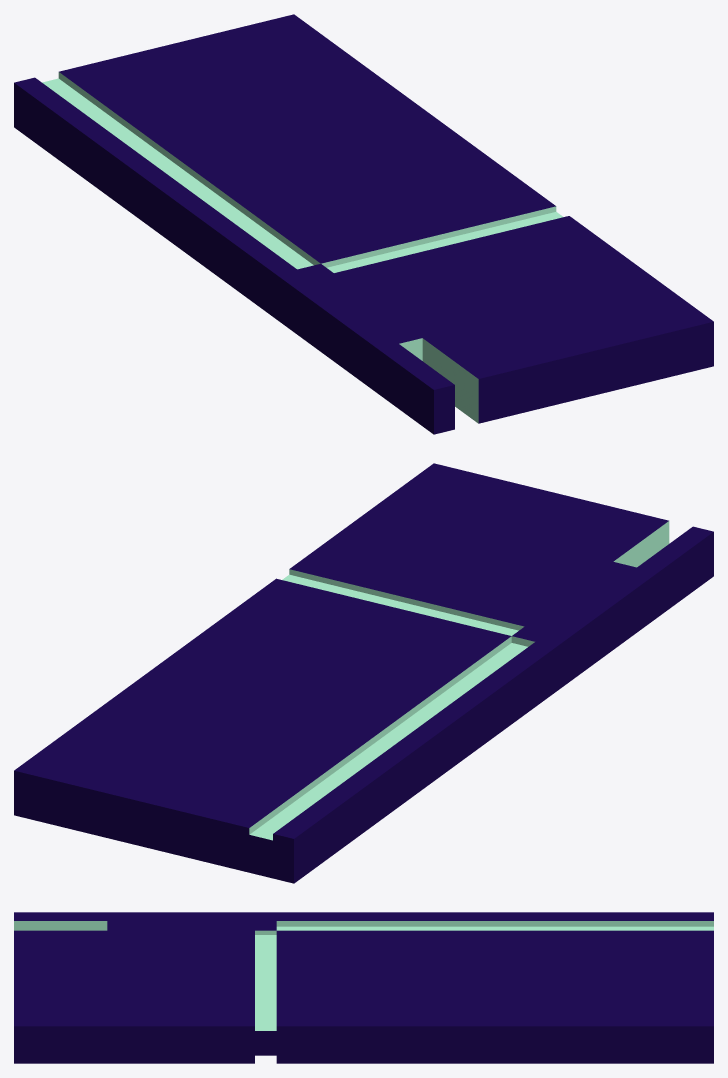
Rendered from Platform09.fbx.
3 renders of one model, top to bottom at view 1: azimuth 30°, elevation 25°; view 2: azimuth 150°, elevation 25°; view 3: azimuth 270°, elevation 25°, orthographic. The views are drawn at different scales.
Parts seen in each view (by area): view 1: Box071; view 2: Box071; view 3: Box071.
Part boxes in pixels (bbox=[...]): Box071: bbox=[14, 14, 713, 434]; Box071: bbox=[14, 463, 713, 883]; Box071: bbox=[14, 912, 713, 1063].
Size of the model in its own units: 133 by 20.32 by 346.
